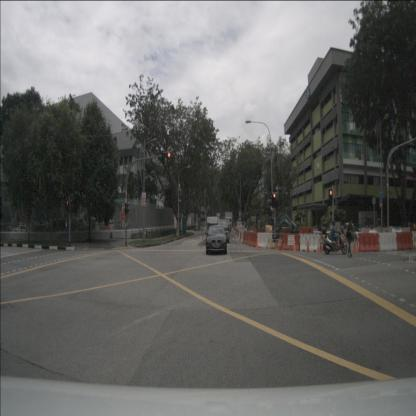barrier: (358, 232, 380, 252), (378, 231, 398, 252), (298, 232, 319, 251), (281, 233, 300, 252), (396, 230, 414, 250), (257, 232, 274, 248), (242, 230, 258, 247)
cone: (316, 239, 321, 252), (292, 238, 296, 253), (355, 238, 359, 253), (255, 236, 259, 249), (306, 240, 310, 252)
